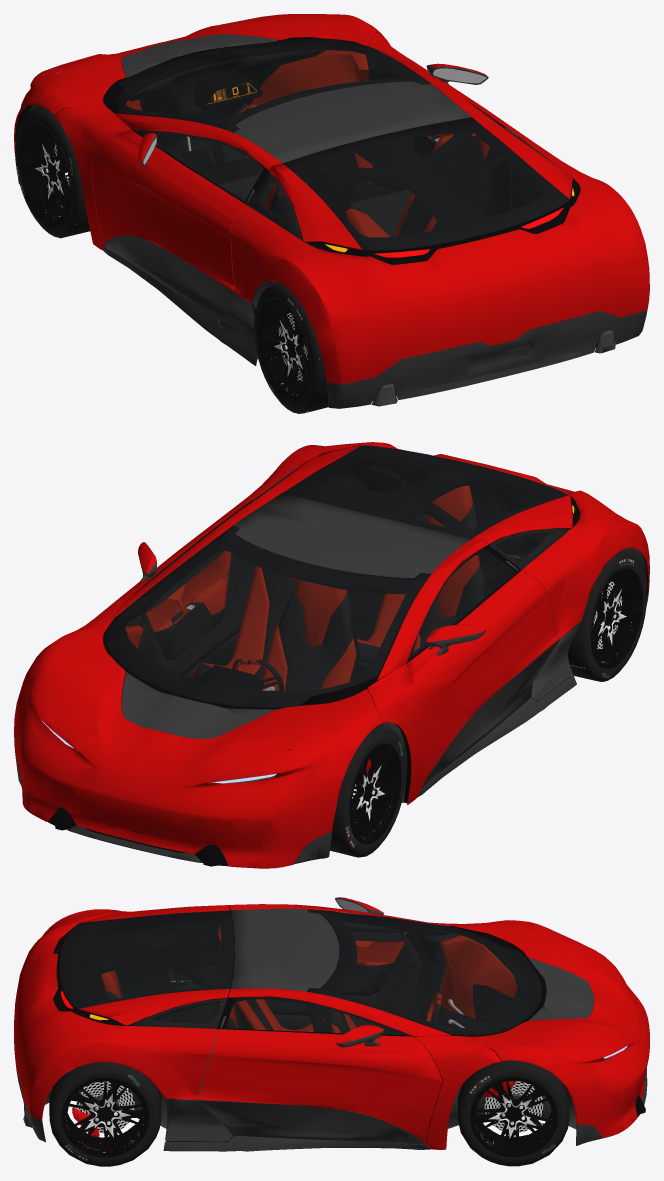
Rendered from touring-gt.high.glb.
3 views of the same model, one above another, from view 1: azimuth 30°, elevation 25°; view 2: azimuth 150°, elevation 25°; view 3: azimuth 270°, elevation 25° (orthographic). The views are drawn at different scales.
Visible parts, largest first — view 1: geometry:body, geometry:wheel-rl, geometry:wheel-fl; view 2: geometry:body, geometry:wheel-fl, geometry:wheel-rl; view 3: geometry:body, geometry:wheel-rr, geometry:wheel-fr.
Boxes of the visible parts, x1,y1,x2,y2 form: geometry:body: (14, 14, 649, 408); geometry:wheel-rl: (254, 283, 328, 413); geometry:wheel-fl: (15, 107, 90, 238); geometry:body: (14, 442, 649, 868); geometry:wheel-fl: (330, 726, 405, 857); geometry:wheel-rl: (568, 552, 646, 681); geometry:body: (14, 897, 649, 1151); geometry:wheel-rr: (49, 1062, 161, 1166); geometry:wheel-fr: (457, 1058, 569, 1166).
Size of the model in its own units: 2.1 by 1.04 by 3.92.
Materials: 22 (5 with a texture image).
